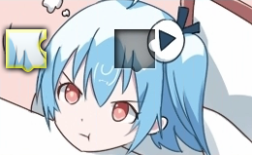gap: (114, 29, 156, 71)
